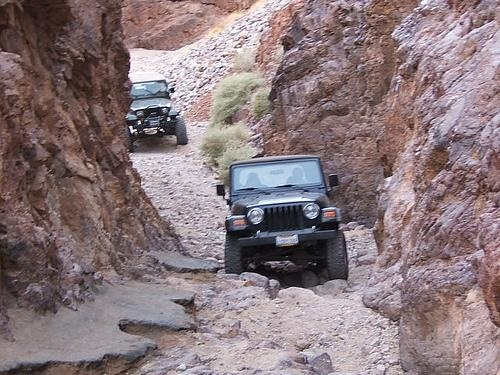car: (216, 154, 349, 286), (125, 75, 189, 154)
